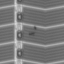dust: (27, 31, 34, 36), (32, 25, 37, 30)
